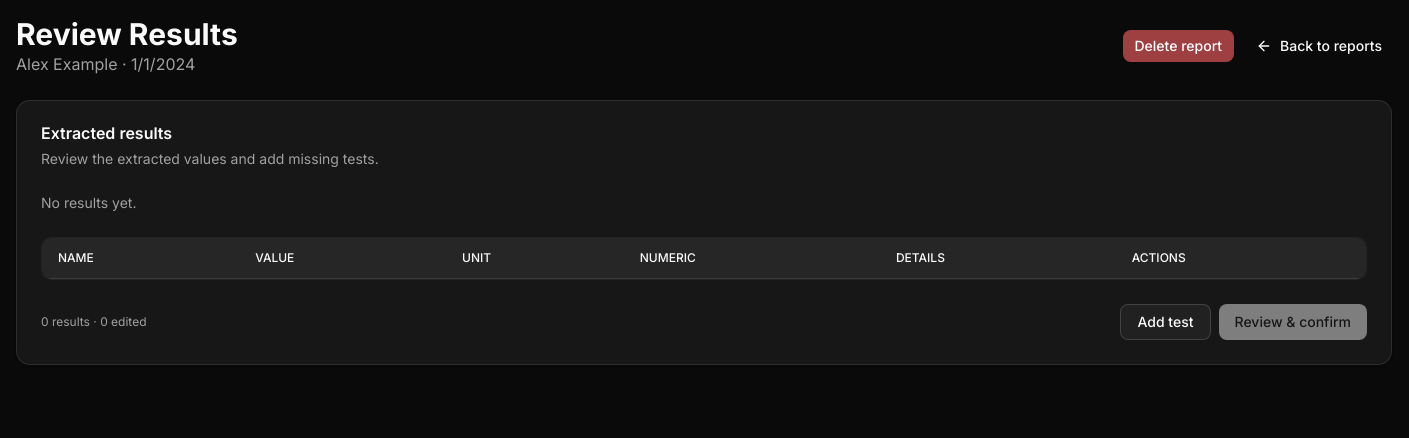
owner can add a test when no extraction run exists
The width and height of the screenshot is (1409, 438).
Expected: the heading "Review Results" is shown, [16, 16, 238, 52]
Click the button "Add test". click: (1166, 322)
box: [1120, 304, 1210, 340]
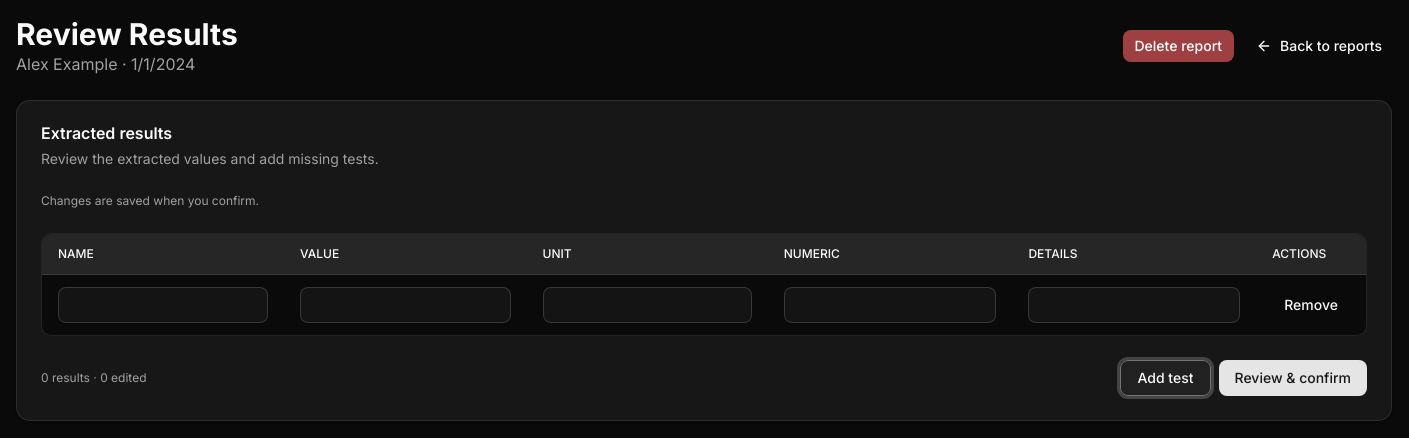
Now the field named "name" is shown, box [58, 287, 268, 323]
